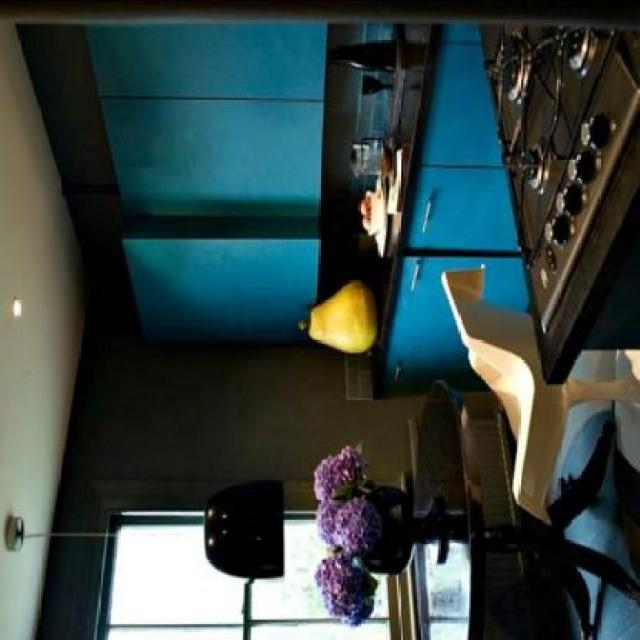Pear: (311, 280, 375, 351)
